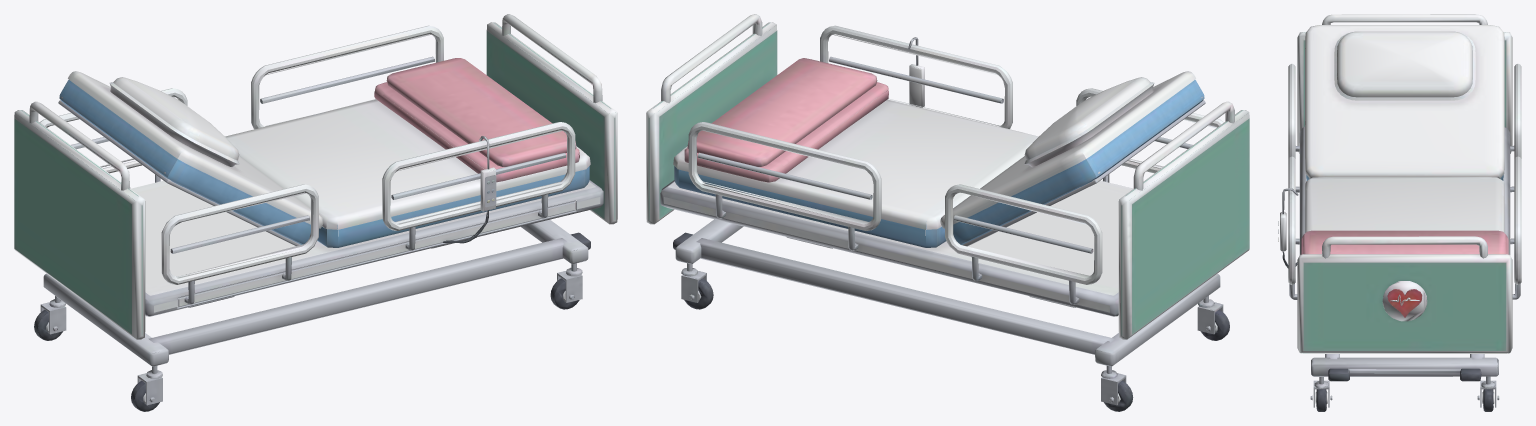
File: medical-hospital-bed.glb
The picture shows the model from 3 angles, left to right: view 1: azimuth 30°, elevation 25°; view 2: azimuth 150°, elevation 25°; view 3: azimuth 270°, elevation 25°; orthographic projection. The views are drawn at different scales.
Parts seen in each view (by area): view 1: hospital-bed_body, hospital-bed_backrest; view 2: hospital-bed_body, hospital-bed_backrest; view 3: hospital-bed_body, hospital-bed_backrest.
Boxes of the visible parts, x1,y1,x2,y2 form: hospital-bed_body: (14, 14, 617, 411); hospital-bed_backrest: (58, 71, 323, 245); hospital-bed_body: (646, 14, 1249, 411); hospital-bed_backrest: (940, 71, 1205, 246); hospital-bed_body: (1278, 14, 1521, 411); hospital-bed_backrest: (1305, 25, 1504, 180).
Size of the model in its own units: 2.2 by 1.12 by 1.1.
Materials: 2 (2 with a texture image).
